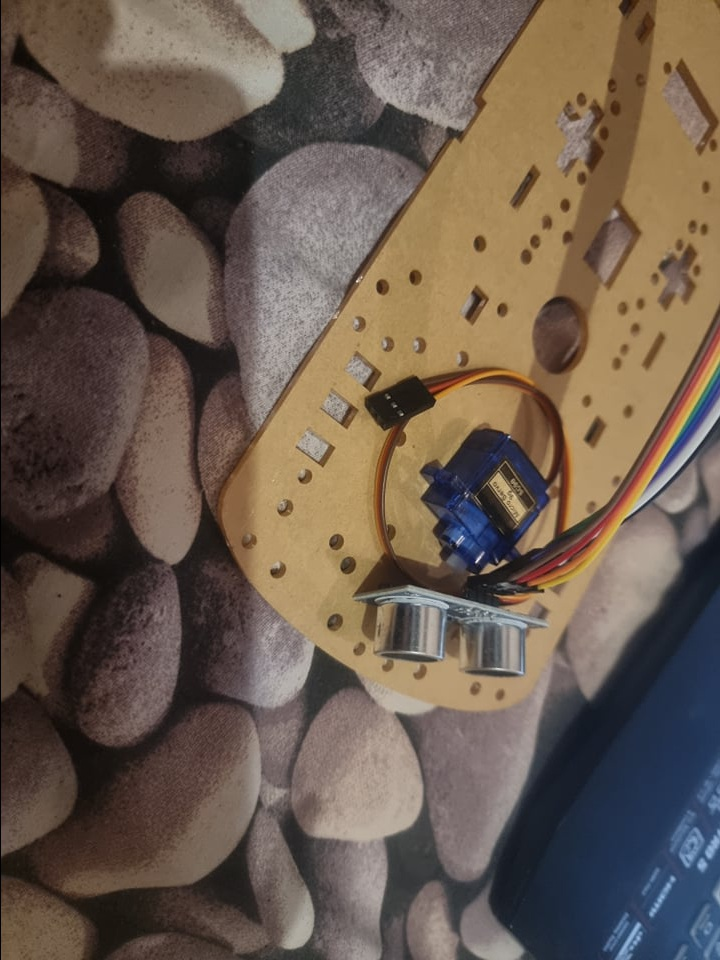SENSOR: (357, 593, 549, 680)
